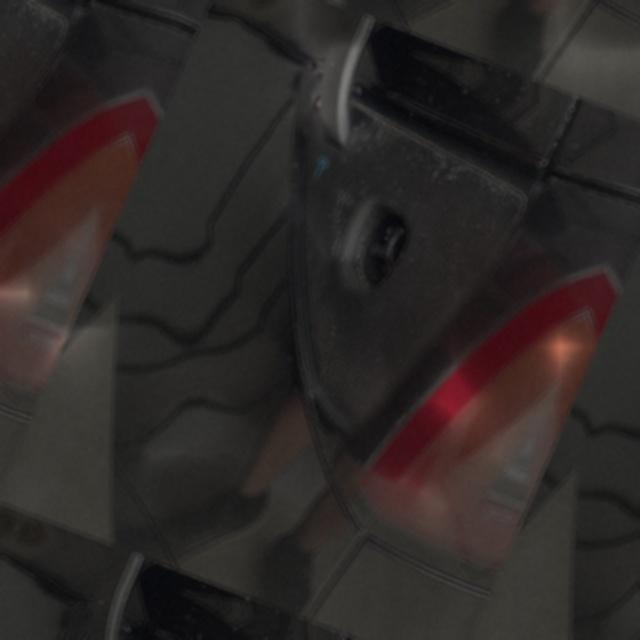Tesla Model-S-: (329, 187, 425, 330)
